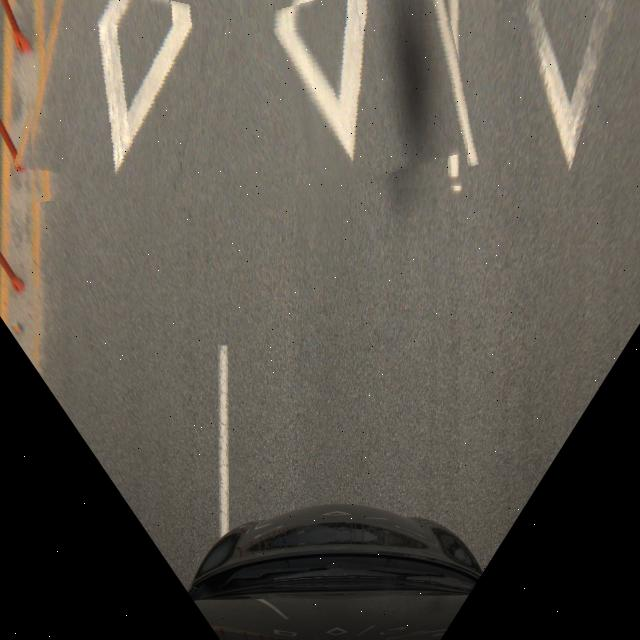diamond: (223, 0, 470, 200), (24, 0, 239, 202)
